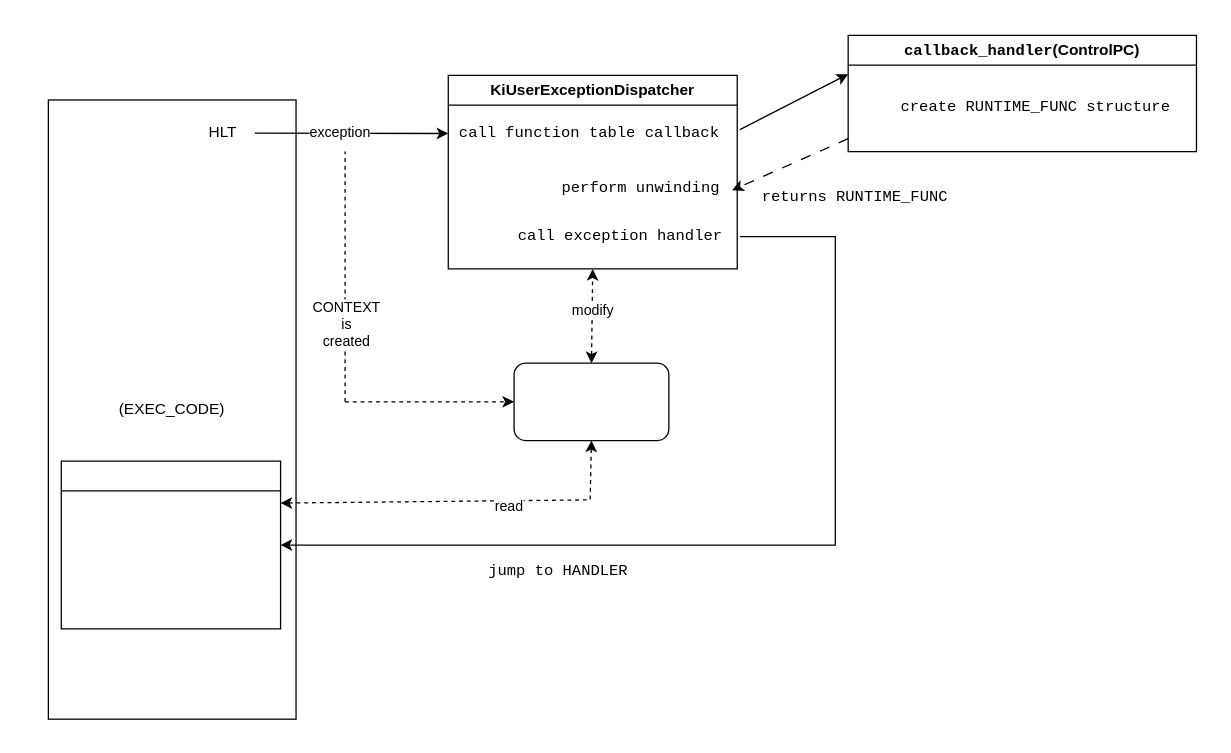
This 1231x753 diagram has some shape labels left out. Here are the shapes that lost their labels. From the top down, the centre of each, then its label:
At [591,401]: "CONTEXT".
At [170,544]: "HANDLER".
